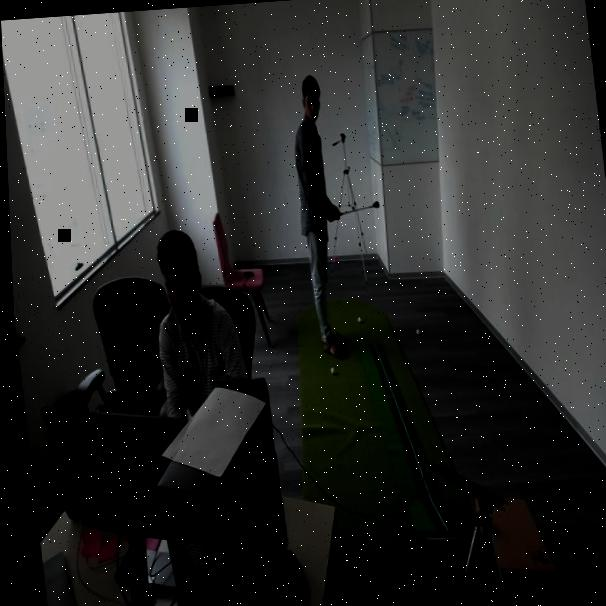ClubHead: (359, 195, 381, 216)
GolfBall: (350, 310, 366, 328), (324, 362, 338, 382), (409, 326, 422, 340)
